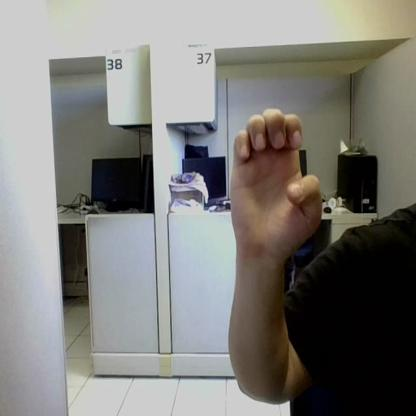E: (231, 108, 322, 255)
